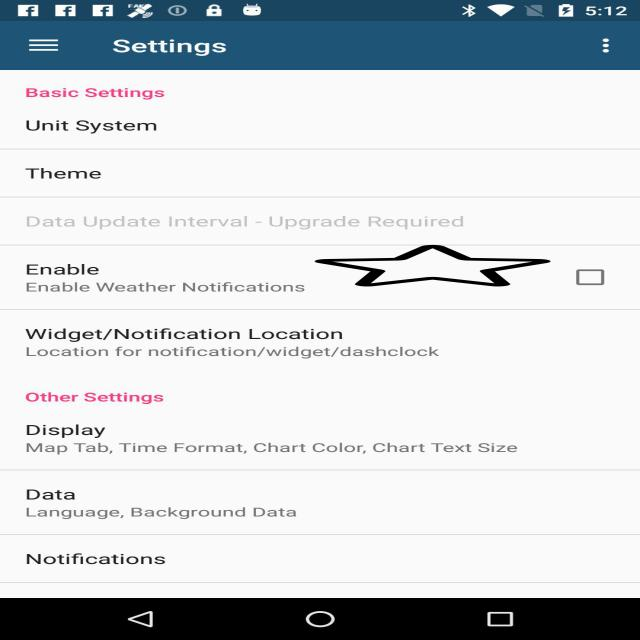forced continuity: (314, 244, 550, 287)
